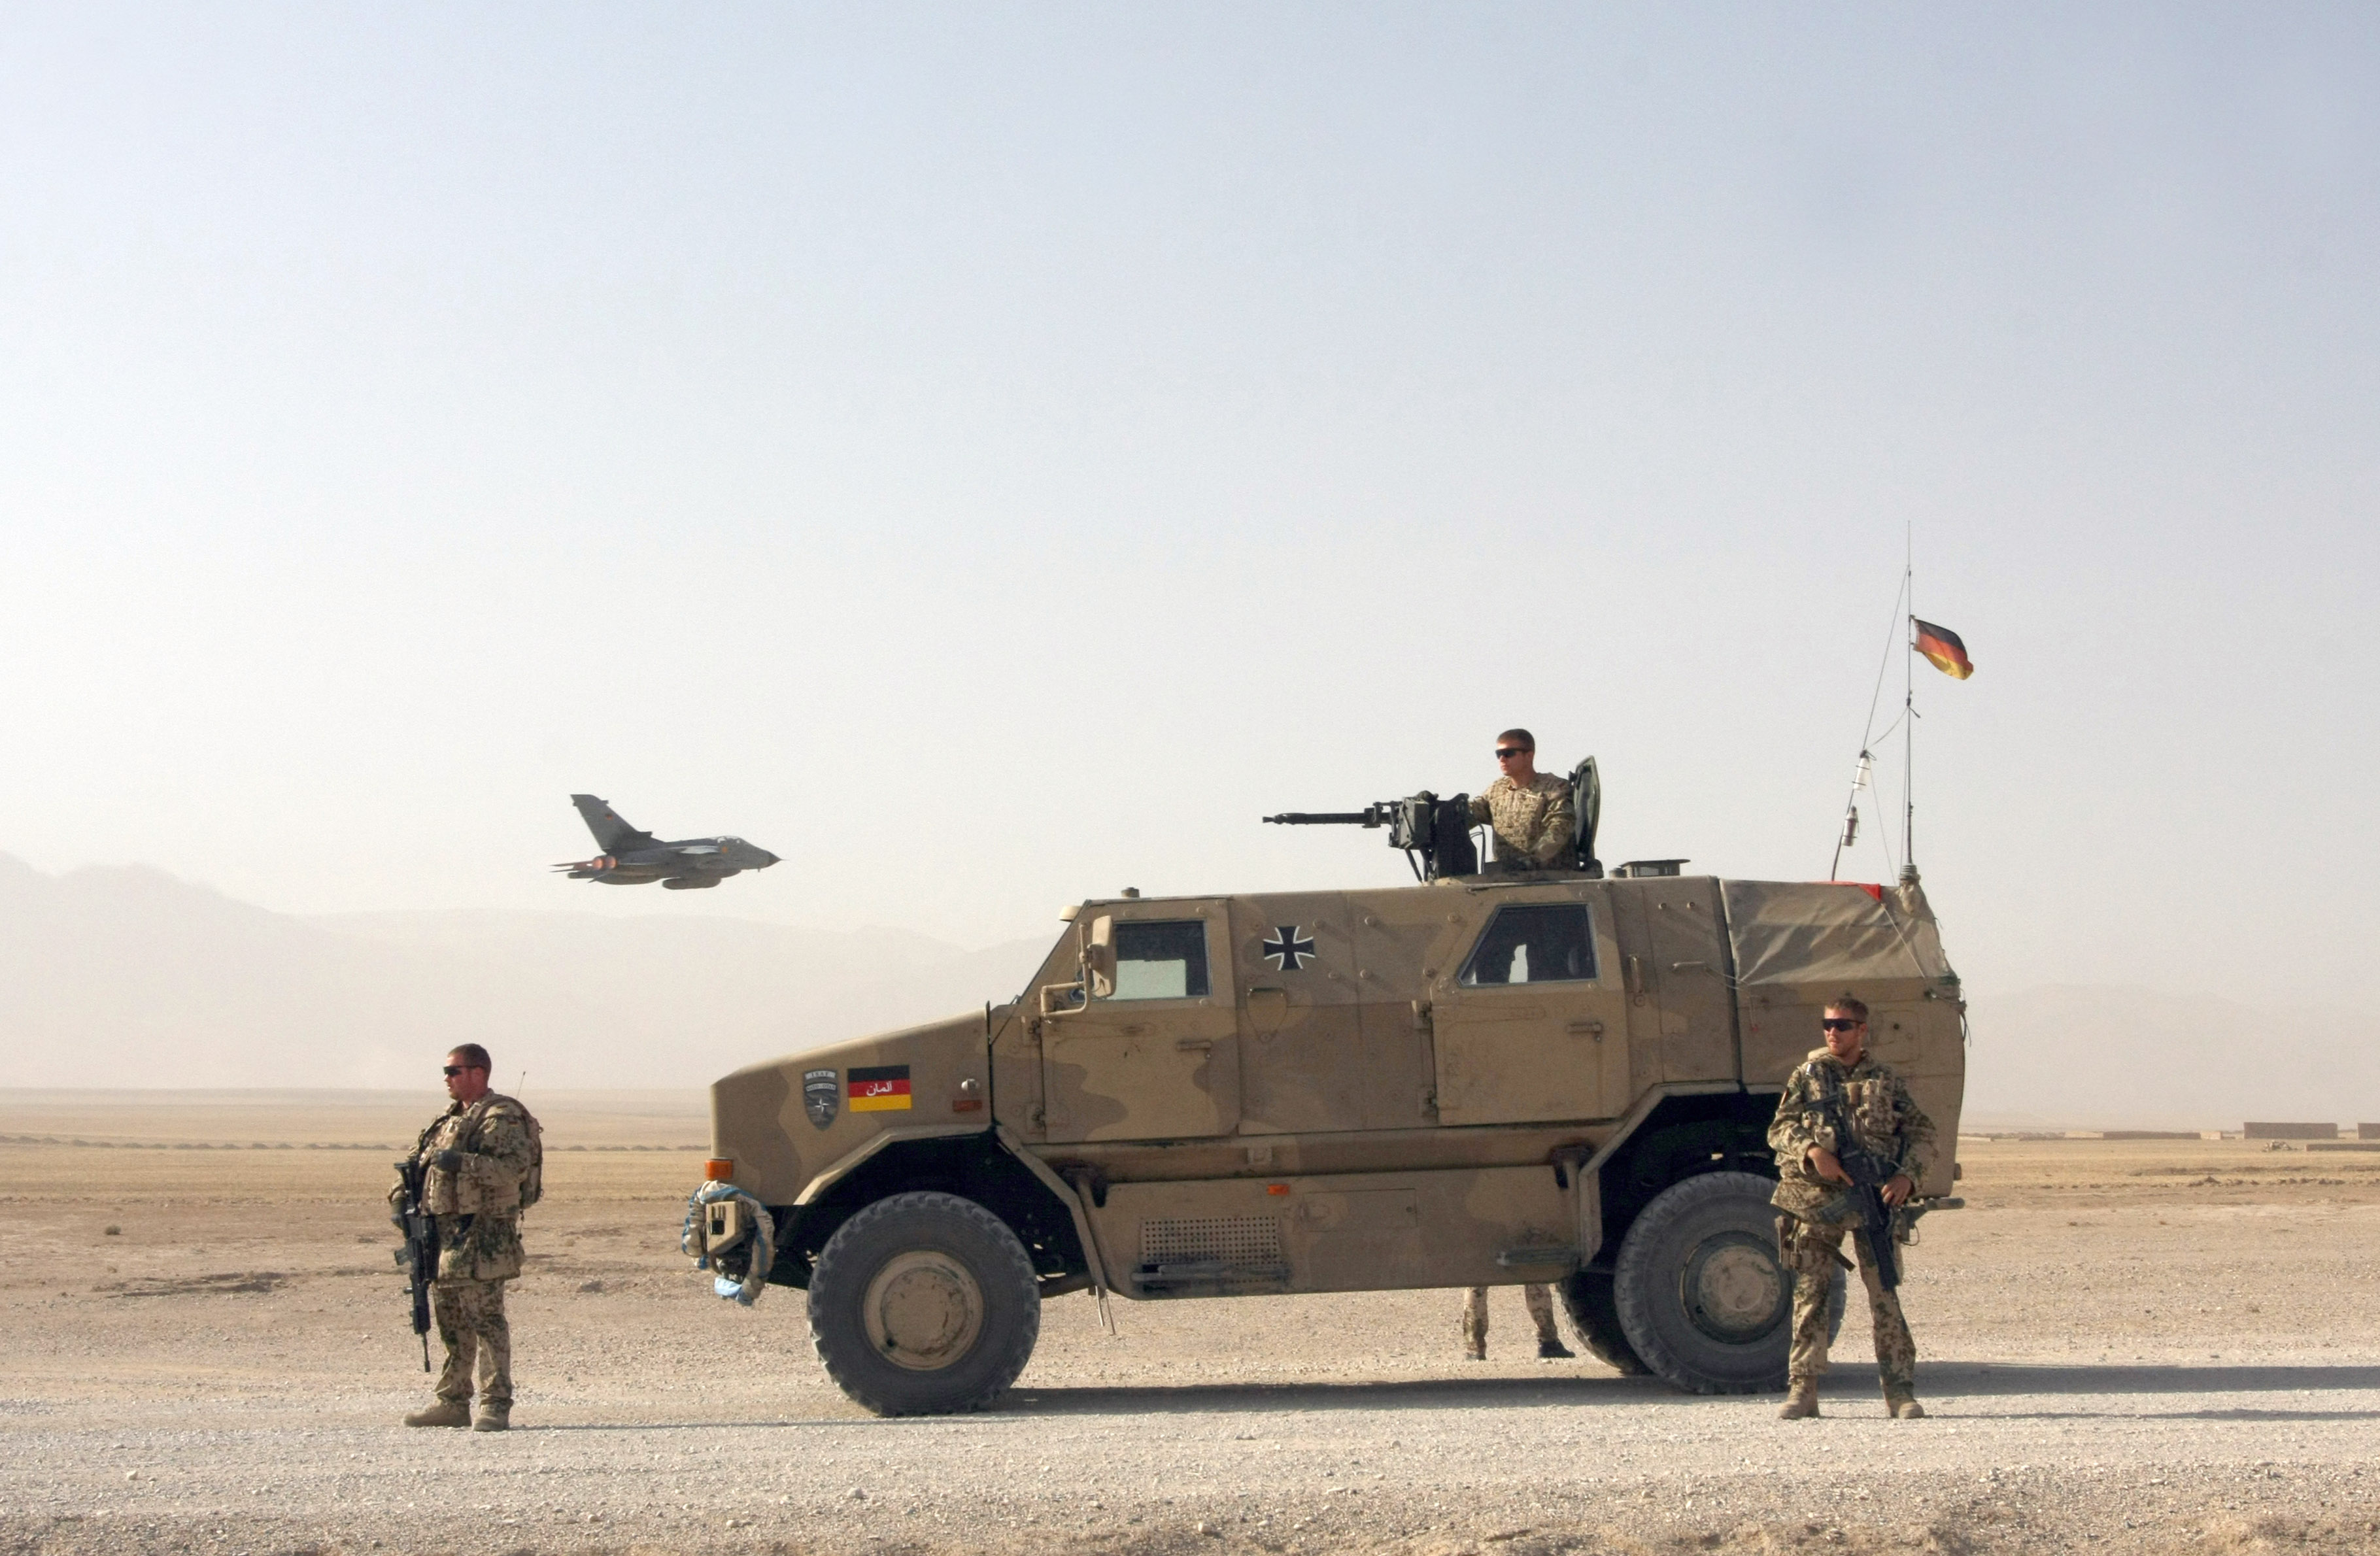Tornado: (547, 792, 790, 889)
